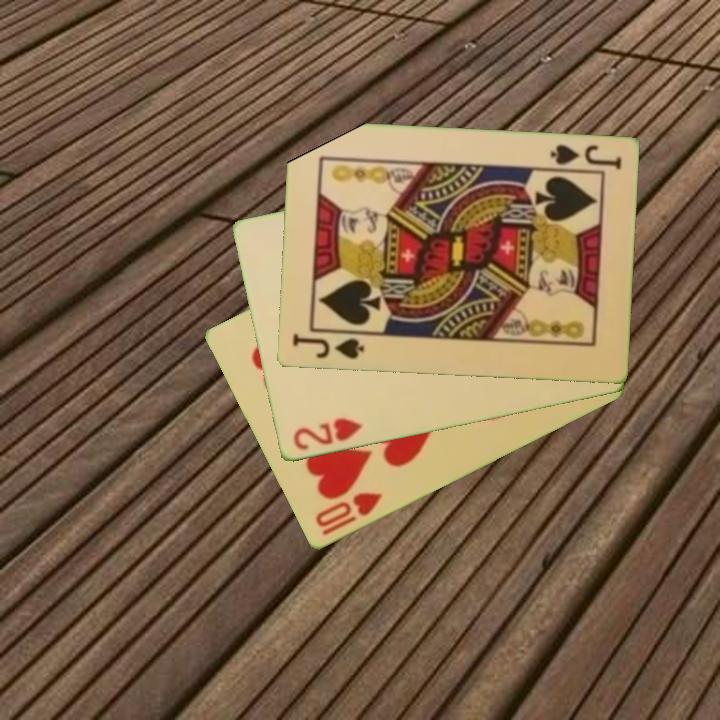10h: (311, 489, 385, 539)
2h: (289, 414, 365, 454)
Js: (288, 330, 367, 362), (546, 141, 624, 173)
